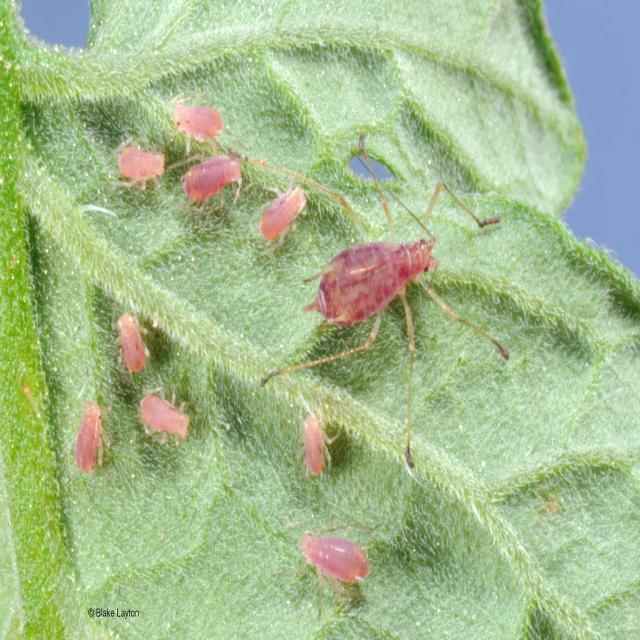Aphids: (301, 199, 464, 348), (177, 102, 252, 225), (233, 137, 319, 243), (159, 70, 248, 153), (302, 498, 372, 581), (58, 379, 114, 468), (131, 385, 201, 450), (115, 122, 177, 194), (112, 278, 151, 386), (297, 405, 331, 495)
